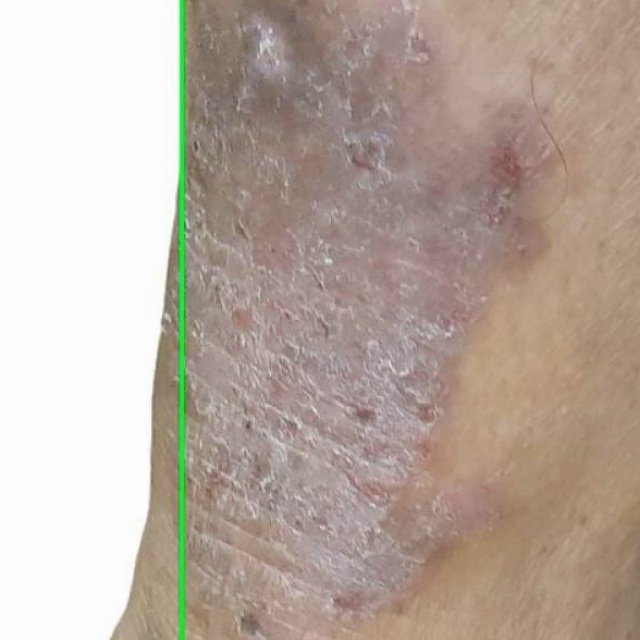Eczema: (0, 0, 180, 639)
